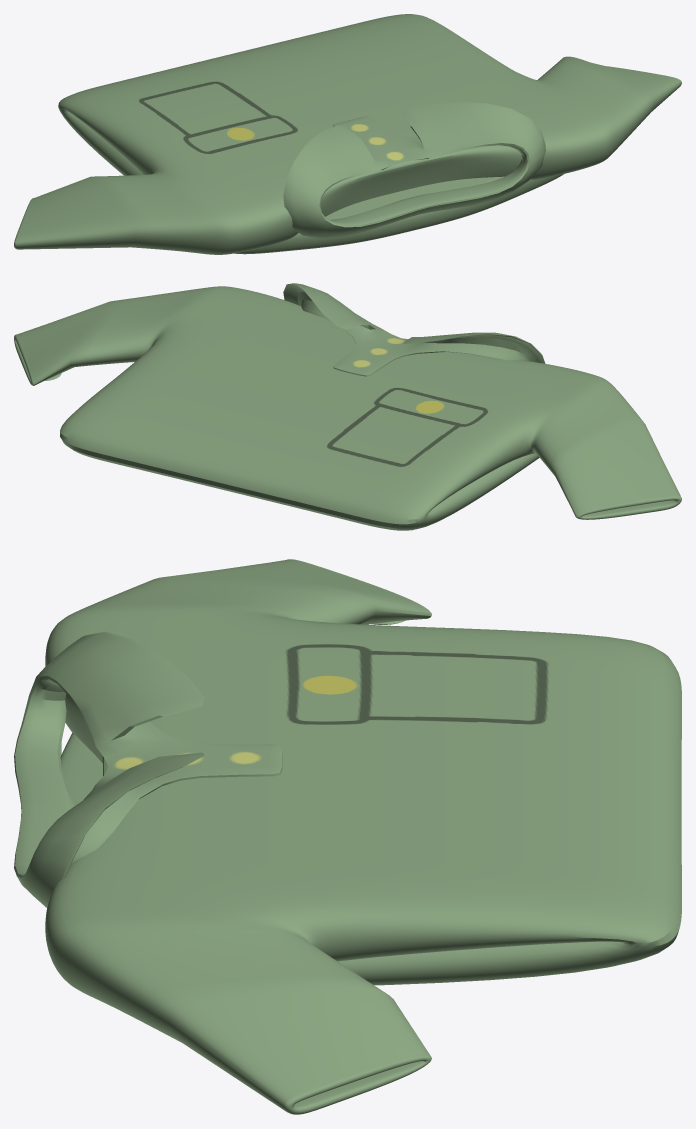
The model's file is CAMISA .fbx.
3 renders of one model, top to bottom at view 1: azimuth 30°, elevation 25°; view 2: azimuth 150°, elevation 25°; view 3: azimuth 270°, elevation 25°, orthographic. The views are drawn at different scales.
Visible parts, largest first — view 1: Cube.002; view 2: Cube.002; view 3: Cube.002.
Part boxes in pixels (x1,y1,x2,y2): Cube.002: [14, 14, 681, 254]; Cube.002: [14, 283, 681, 530]; Cube.002: [14, 559, 681, 1114].
Bounding box in the file's own units: 360 × 46.39 × 187.
1 material, 1 textured.
